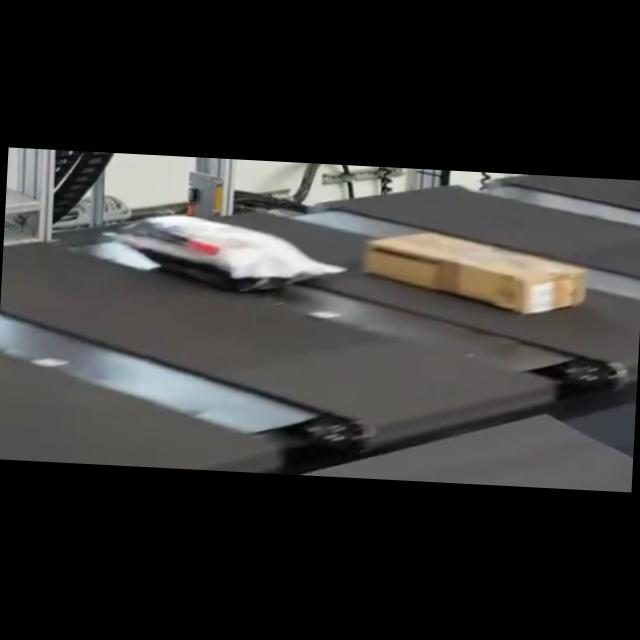box: (360, 225, 597, 318)
mailer: (126, 209, 337, 300)
